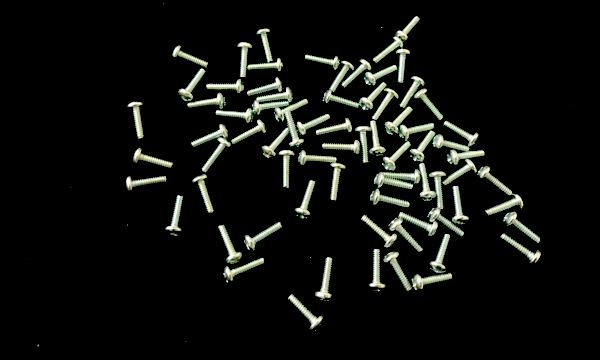shortscrew: (288, 294, 326, 333), (500, 234, 543, 268), (361, 215, 398, 251), (389, 218, 424, 254), (503, 212, 542, 244), (383, 252, 413, 293), (243, 223, 283, 253), (223, 258, 266, 285), (201, 138, 232, 175), (428, 208, 466, 238), (477, 166, 514, 196), (217, 225, 244, 266), (442, 159, 479, 188), (190, 174, 216, 215), (414, 87, 445, 121), (443, 120, 481, 147), (484, 193, 525, 217), (442, 160, 477, 188), (399, 213, 438, 238), (232, 120, 268, 147), (132, 149, 174, 172), (381, 140, 412, 171), (190, 125, 230, 149), (178, 68, 207, 101), (371, 87, 399, 121), (329, 59, 356, 94), (125, 175, 167, 197), (262, 127, 290, 160), (294, 181, 317, 221), (409, 131, 436, 165), (384, 107, 414, 137), (273, 98, 309, 123), (372, 37, 404, 65), (430, 234, 452, 274), (342, 59, 372, 88), (370, 190, 411, 211), (315, 258, 334, 303), (368, 249, 387, 294), (172, 45, 209, 68), (400, 76, 426, 108), (373, 173, 414, 193), (296, 113, 331, 136), (417, 163, 437, 203), (165, 196, 184, 238), (360, 83, 388, 111), (449, 187, 469, 226), (413, 274, 453, 293), (433, 134, 471, 153), (285, 113, 305, 149), (128, 102, 146, 141), (206, 78, 245, 96), (298, 150, 337, 168), (246, 78, 285, 96), (378, 169, 421, 185), (256, 28, 275, 64), (369, 121, 387, 159), (316, 118, 354, 136), (322, 141, 362, 158), (330, 162, 347, 202), (395, 16, 421, 42), (279, 149, 295, 191), (323, 91, 360, 109), (398, 123, 435, 141), (430, 171, 447, 210), (256, 87, 295, 104), (186, 93, 226, 109), (215, 108, 255, 124), (304, 54, 341, 71), (356, 127, 373, 164), (237, 41, 253, 79), (247, 58, 285, 74), (446, 150, 486, 165), (252, 100, 290, 115)
